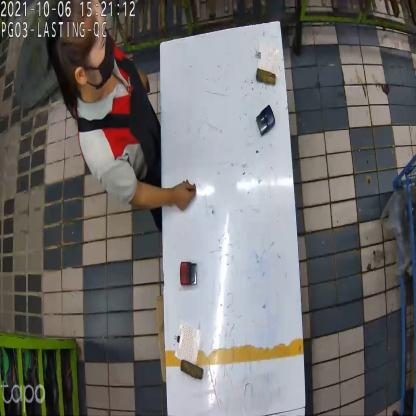stamp: (257, 103, 276, 136), (179, 258, 197, 288)
